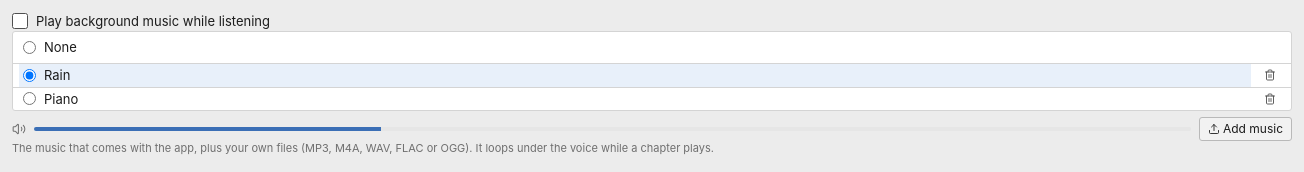
Scenario: MusicPicker › removes a track and clears the selection when it was the playing one
Step 1. Click the button named "Remove Rain" → (1270, 75), box [1255, 66, 1285, 84]
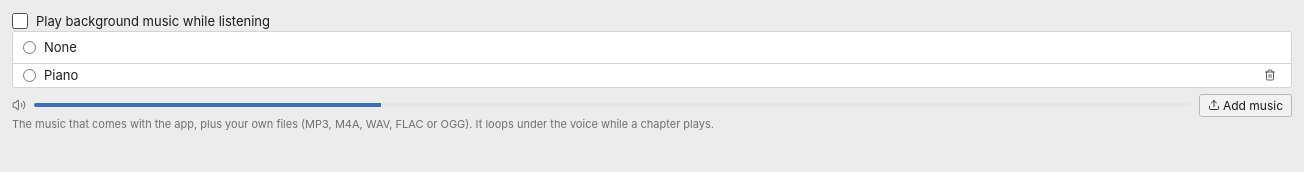
expect the text "Rain" is gone: met
